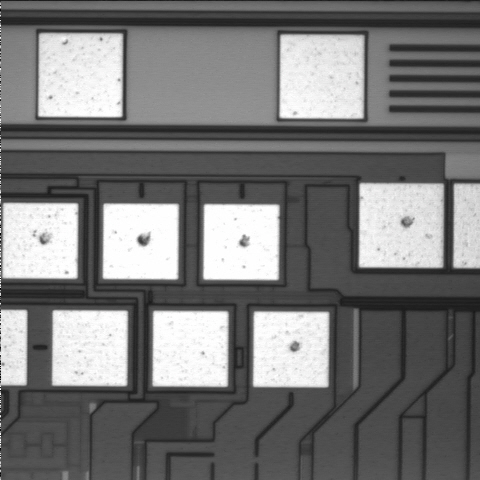pad: (38, 33, 123, 117), (359, 183, 443, 268), (280, 35, 364, 119), (2, 203, 78, 279), (103, 204, 179, 280), (203, 204, 279, 280), (52, 310, 128, 386), (153, 311, 228, 387), (253, 312, 329, 387)
